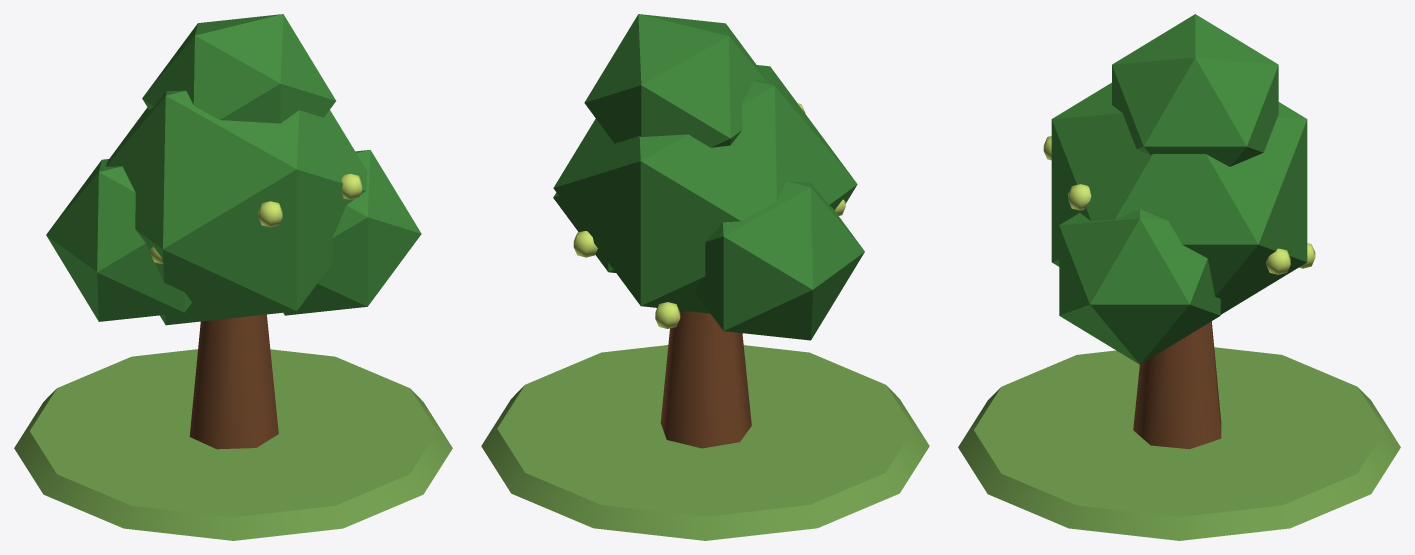
3 views of the same model, side by side, from view 1: azimuth 30°, elevation 25°; view 2: azimuth 150°, elevation 25°; view 3: azimuth 270°, elevation 25° (orthographic). The views are drawn at different scales.
Bounding box in the file's own units: 2.8 × 2.92 × 2.8.
